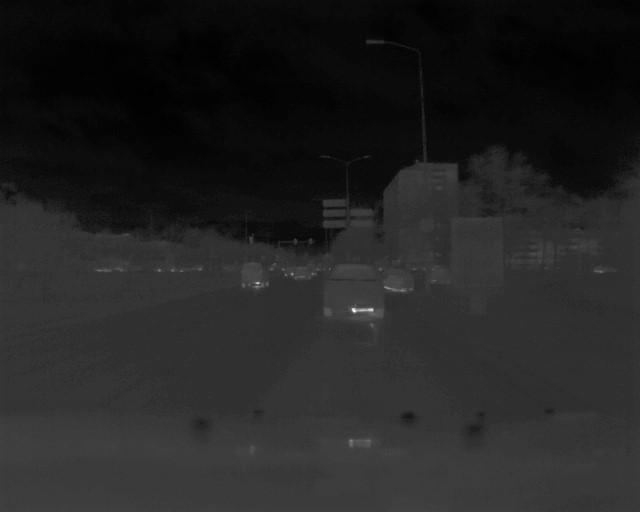car: (320, 264, 388, 327), (240, 261, 272, 289), (385, 266, 418, 293)
